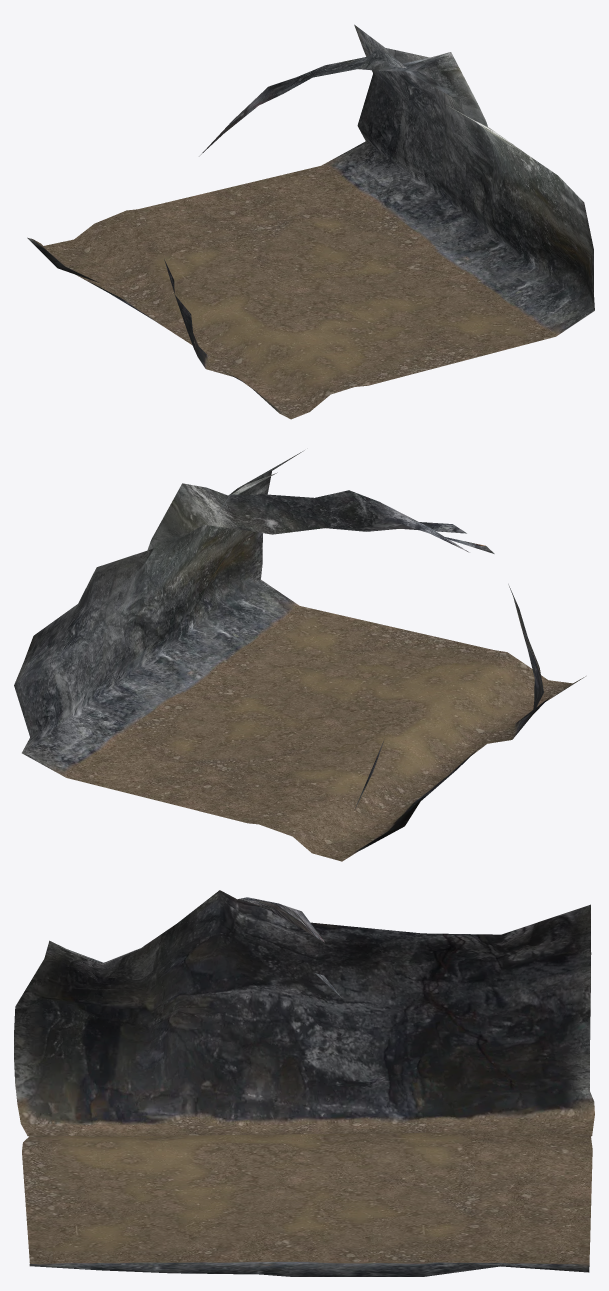
File: TunnelA4.glb
3 renders of one model, top to bottom at view 1: azimuth 30°, elevation 25°; view 2: azimuth 150°, elevation 25°; view 3: azimuth 270°, elevation 25°, orthographic. The views are drawn at different scales.
Visible parts, largest first — view 1: TunnelA4; view 2: TunnelA4; view 3: TunnelA4.
Part boxes in pixels (box(x1,y1,x2,y2)): TunnelA4: box(27, 24, 594, 419); TunnelA4: box(14, 450, 585, 861); TunnelA4: box(14, 890, 594, 1276).
Size of the model in its own units: 4.38 by 2.74 by 5.08.
Materials: 1 (1 with a texture image).
